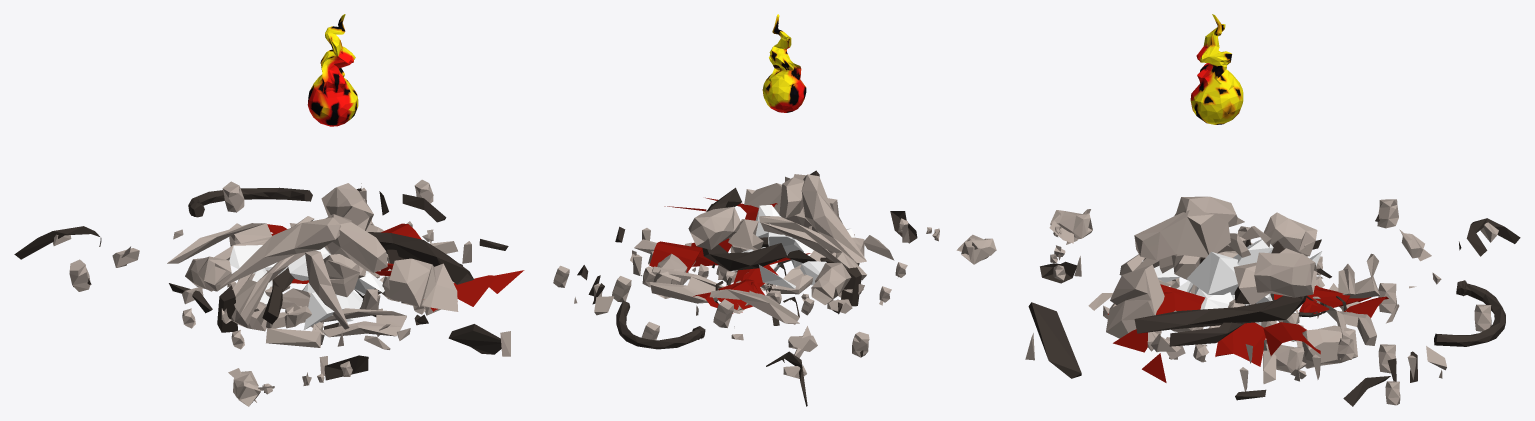
Rendered from Soul.fbx.
3 views of the same model, side by side, from view 1: azimuth 30°, elevation 25°; view 2: azimuth 150°, elevation 25°; view 3: azimuth 270°, elevation 25° (orthographic). The views are drawn at different scales.
Visible parts, largest first — view 1: Soul, Soul.001; view 2: Soul, Soul.001; view 3: Soul, Soul.001.
Part boxes in pixels (box(x1,y1,x2,y2)): Soul: box(14, 179, 524, 406); Soul.001: box(307, 14, 358, 126); Soul: box(553, 170, 996, 406); Soul.001: box(762, 14, 806, 112); Soul: box(1025, 196, 1520, 406); Soul.001: box(1190, 14, 1243, 124).
Size of the model in its own units: 1297 by 1061 by 1463.
5 materials, 1 textured.
